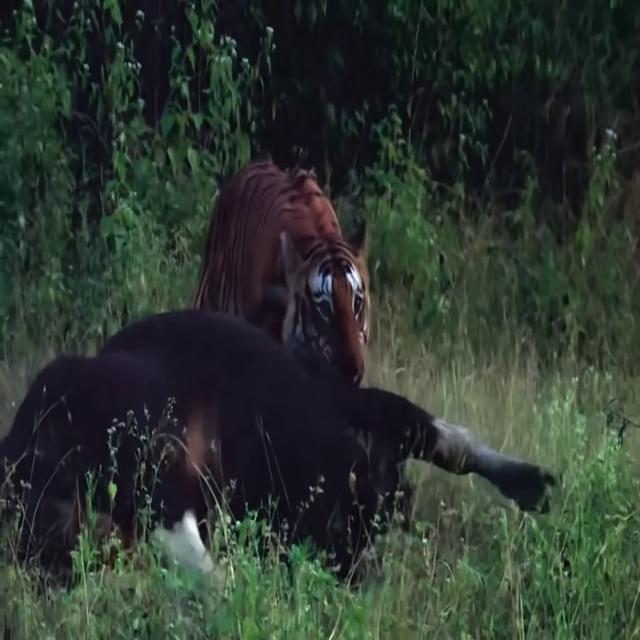tiger: (196, 156, 372, 390)
